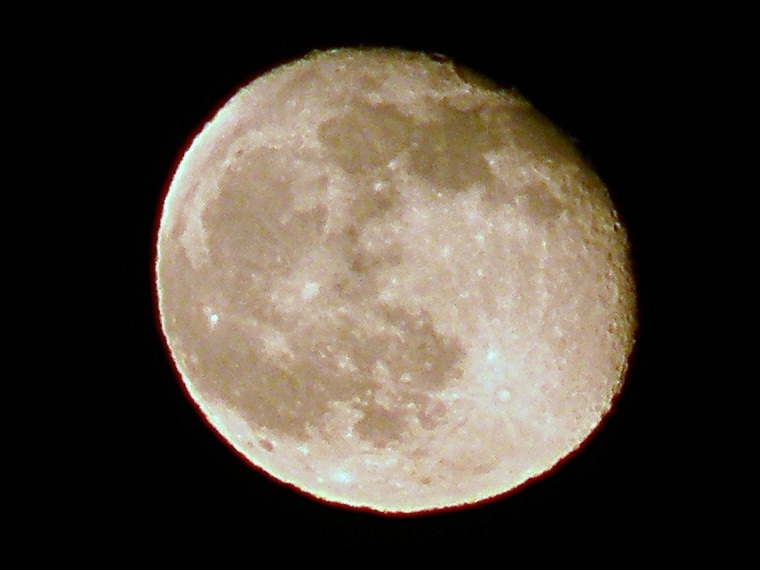crater: (475, 367, 531, 422), (286, 274, 335, 307), (248, 425, 289, 463), (363, 175, 391, 197), (468, 262, 489, 282)
